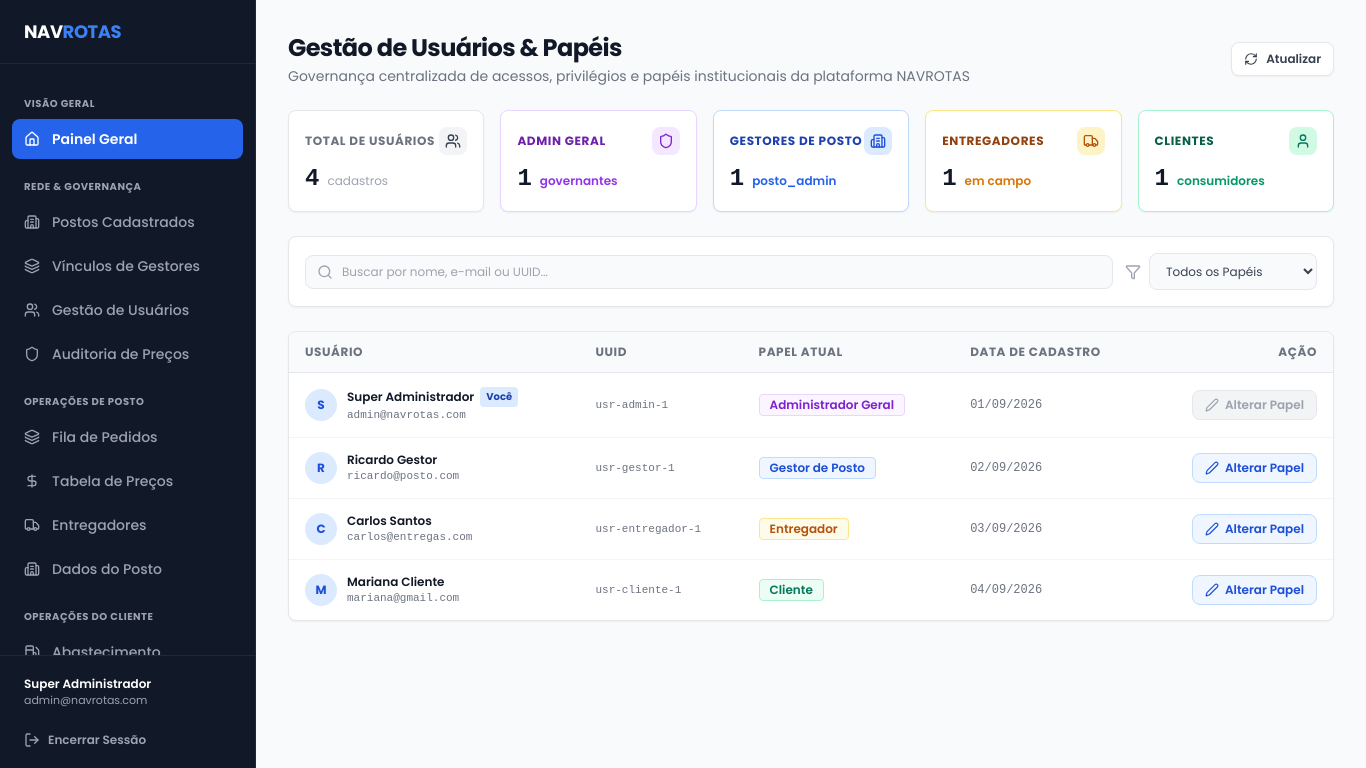
Test: AdminUsuariosPage › filtra usuários reativamente por busca textual
The image size is (1366, 768).
Expected: the text "Ricardo Gestor" is shown, [347, 452, 437, 468]
Type "Mariana" into the field with placeholder "Buscar por nome, e-mail ou UUID...". click: [709, 272]
box: [305, 254, 1113, 288]
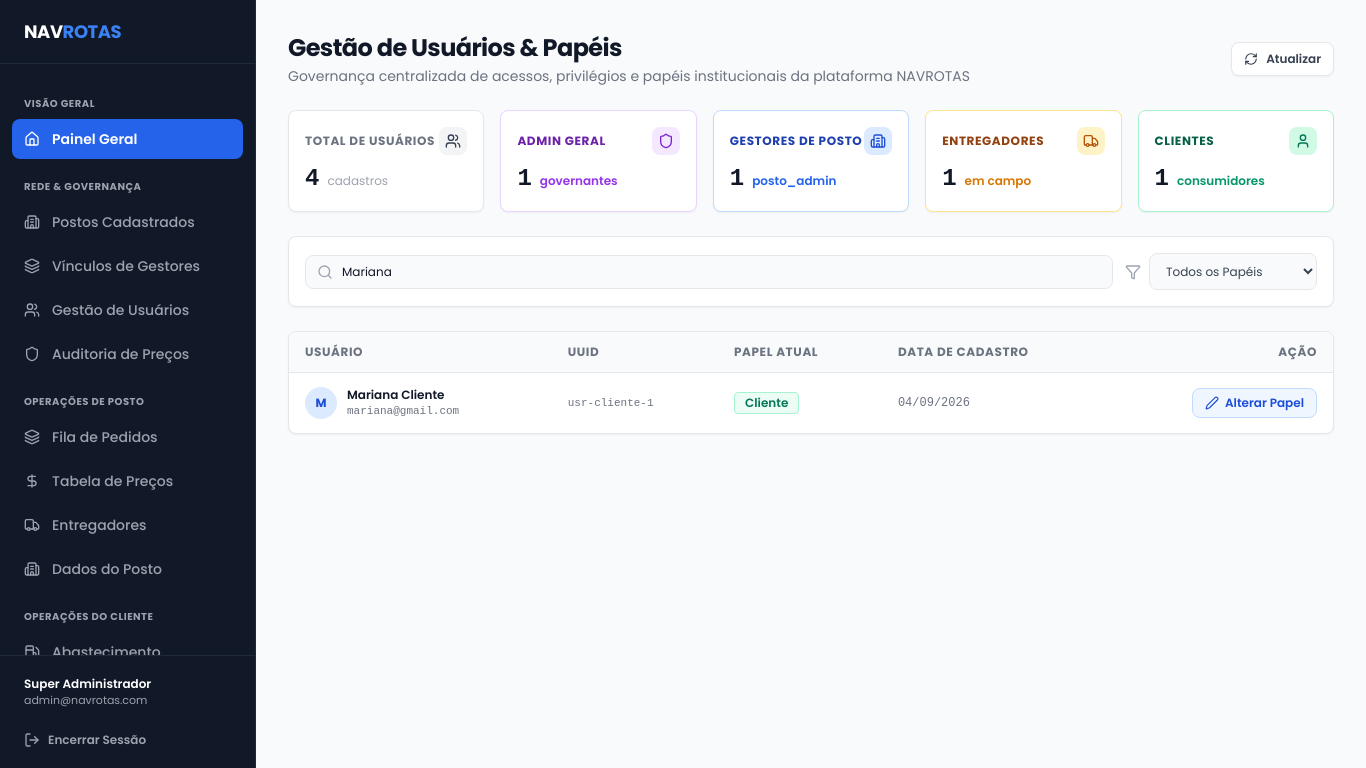
Expected: the text "Mariana Cliente" is shown, [347, 387, 444, 403]
Expected: the text "Ricardo Gestor" is gone
Expected: the text "Carlos Santos" is gone
